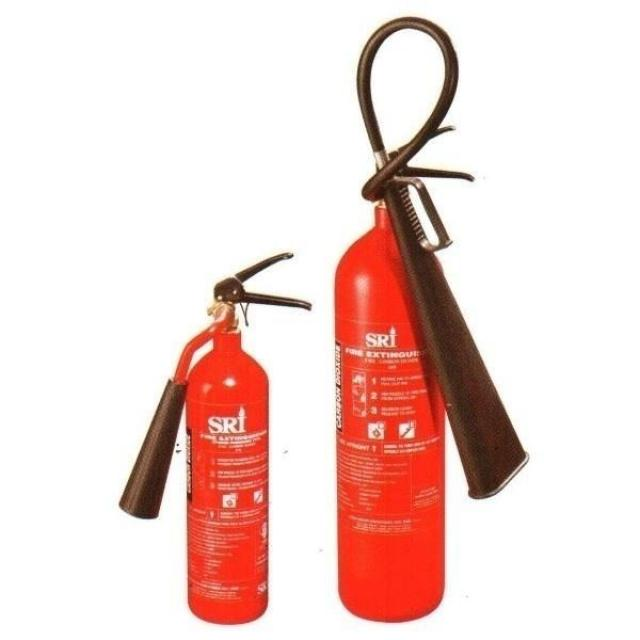fire_extinguisher: (326, 8, 532, 627), (112, 247, 314, 627)
